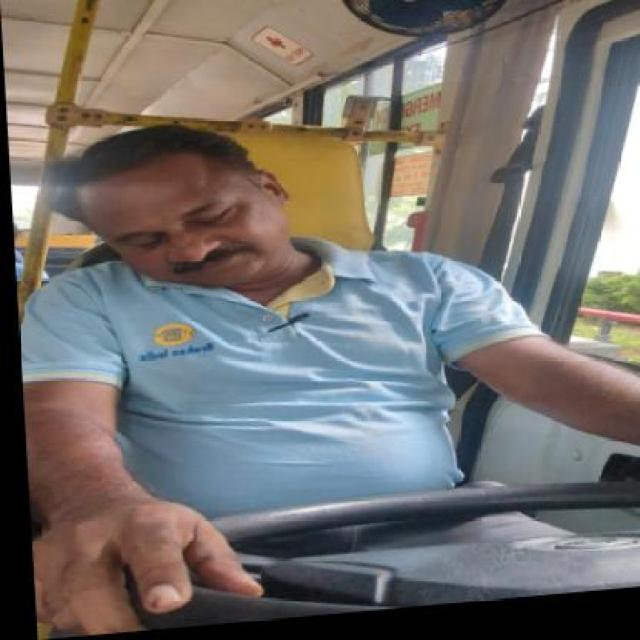Inattentive: (36, 119, 294, 293)
